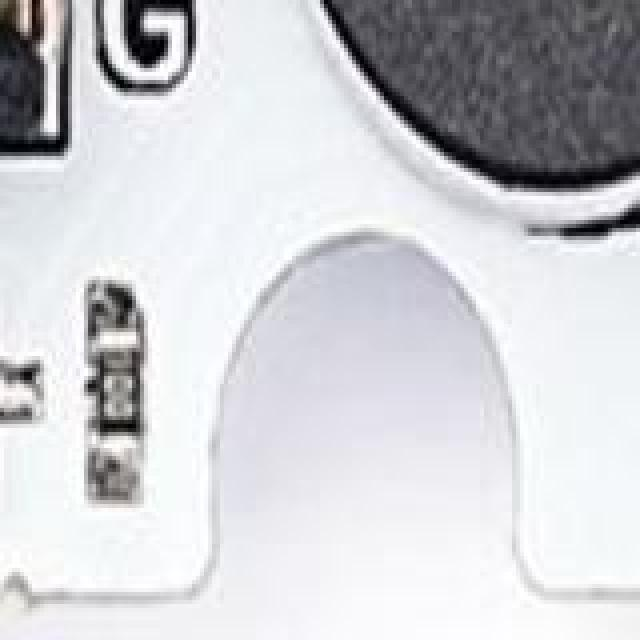buzzer: (260, 0, 640, 240)
connector: (0, 0, 76, 200)
resistor: (88, 300, 142, 502)
transistor: (0, 244, 12, 544)
